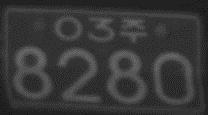0: (152, 49, 194, 107), (53, 15, 84, 41)
2: (56, 45, 103, 104)
3: (86, 15, 115, 43)
8: (105, 47, 148, 105), (11, 44, 53, 100)
주: (119, 17, 146, 42)
